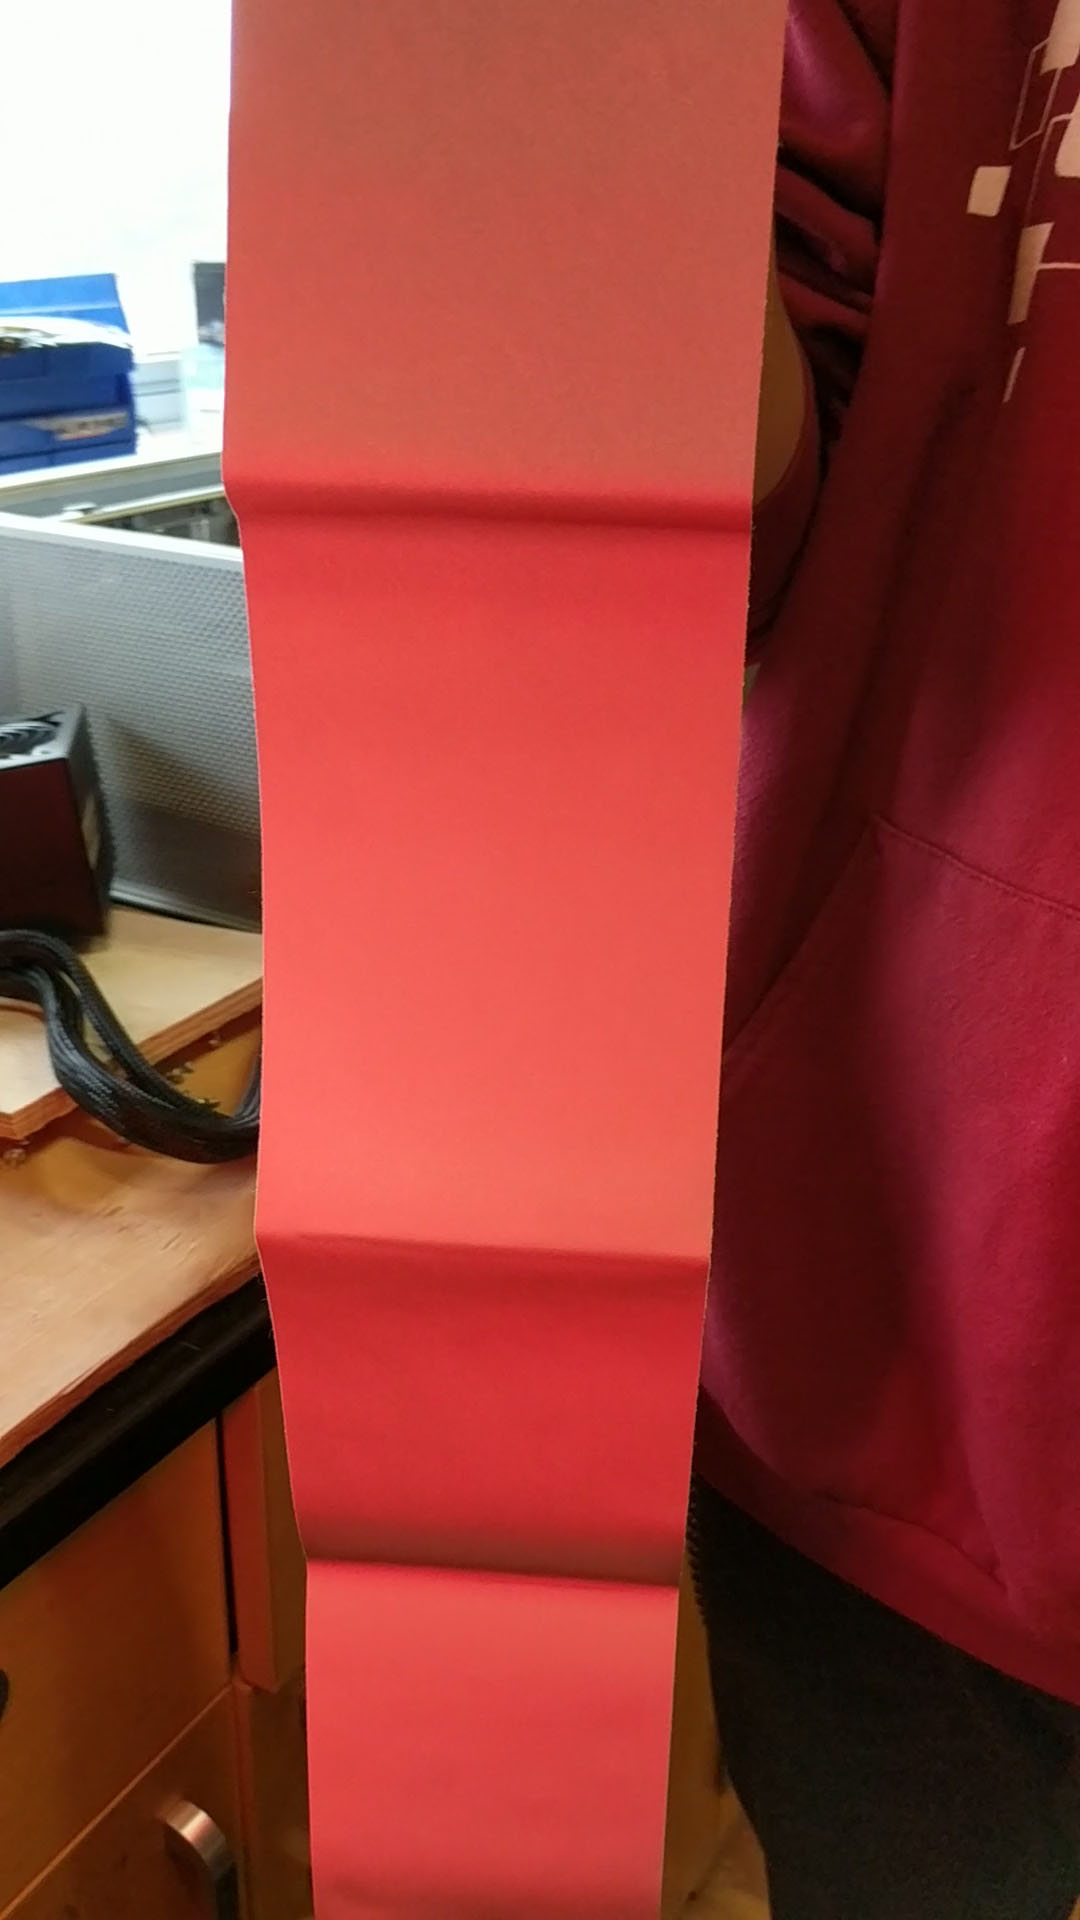gear: (224, 0, 785, 1920)
